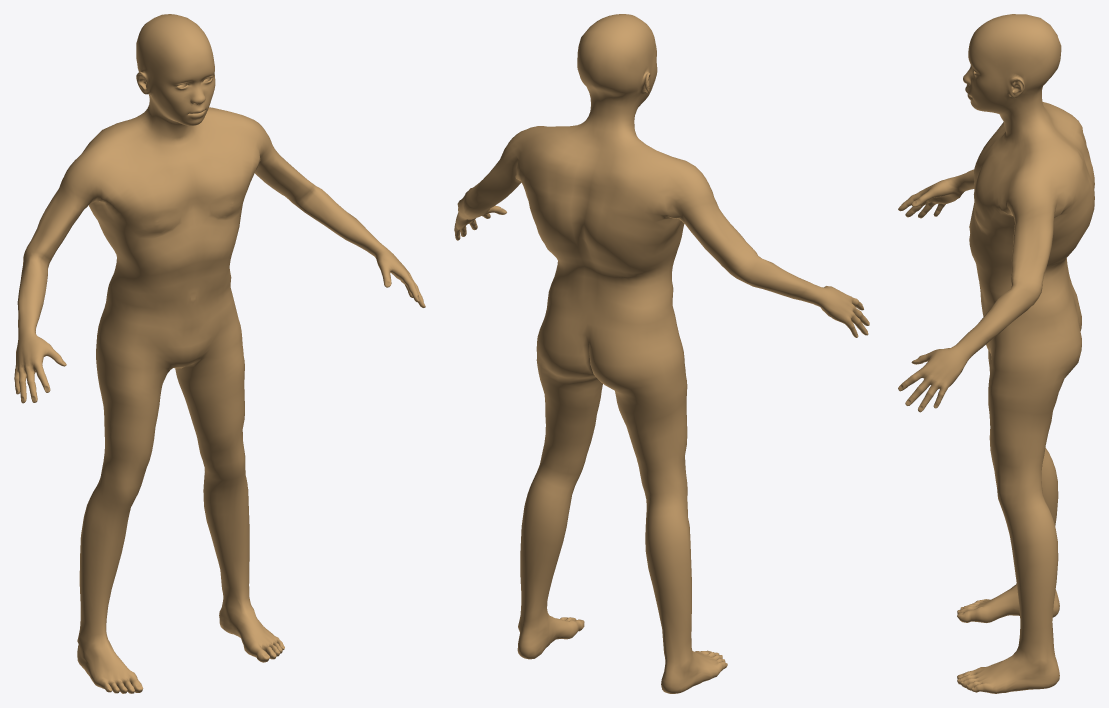
The picture shows the model from 3 angles, left to right: view 1: azimuth 30°, elevation 25°; view 2: azimuth 150°, elevation 25°; view 3: azimuth 270°, elevation 25°; orthographic projection.
Parts seen in each view (by area): view 1: Human; view 2: Human; view 3: Human.
Part boxes in pixels (box(x1,y1,x2,y2)): Human: box(14, 14, 425, 693); Human: box(454, 14, 869, 693); Human: box(898, 14, 1094, 693).
Bounding box in the file's own units: 0.9946 × 1.51 × 0.4238.
